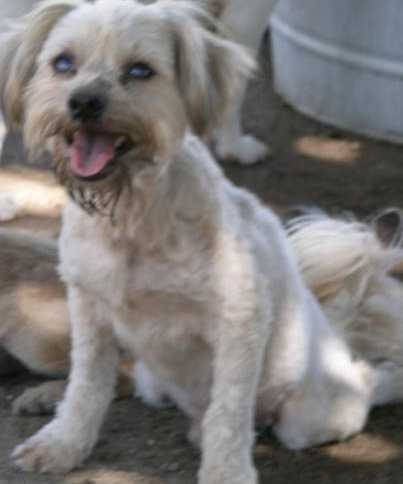Dog: (22, 0, 402, 467)
